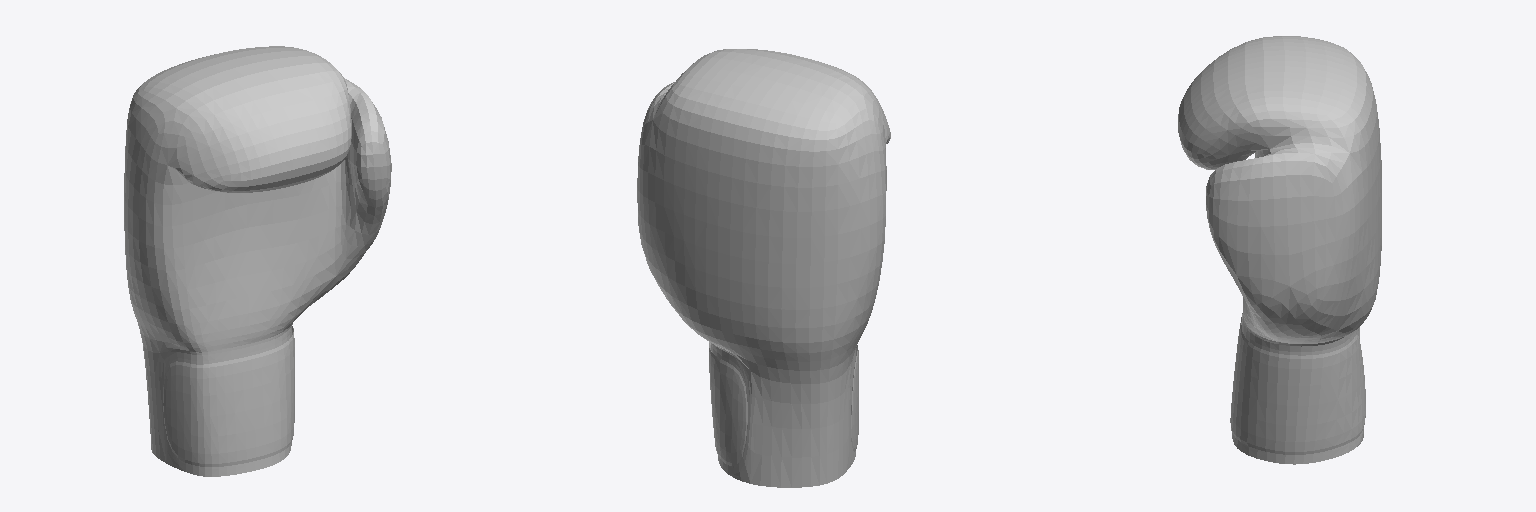
File: glove_rigth.obj
3 views of the same model, side by side, from view 1: azimuth 30°, elevation 25°; view 2: azimuth 150°, elevation 25°; view 3: azimuth 270°, elevation 25° (orthographic).
Parts seen in each view (by area): view 1: Cube.001_Cube; view 2: Cube.001_Cube; view 3: Cube.001_Cube.
Boxes of the visible parts, x1=… form: Cube.001_Cube: x1=124, y1=46, x2=391, y2=476; Cube.001_Cube: x1=637, y1=49, x2=890, y2=487; Cube.001_Cube: x1=1178, y1=36, x2=1381, y2=464.
Bounding box in the file's own units: 2.42 × 3.79 × 1.84.